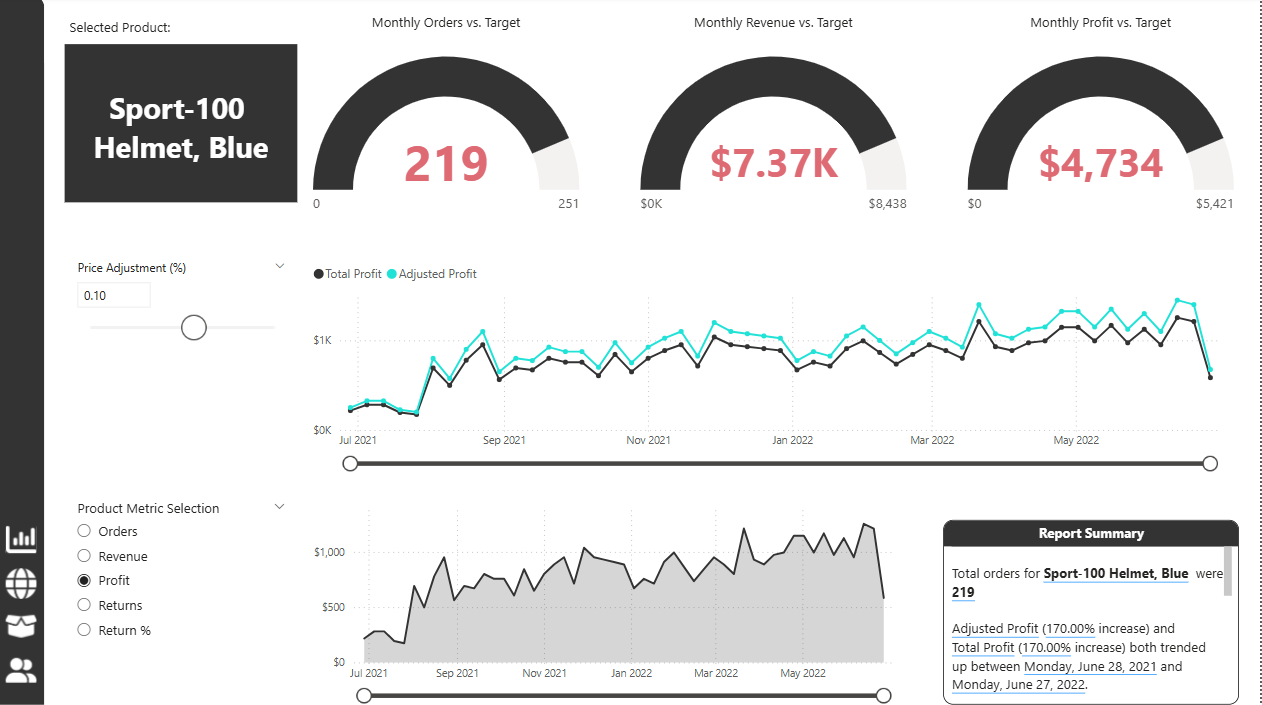

The dashboard page shown, as its layout file describes it:
{"tool":"powerbi","page":{"name":"Product Detail","canvas":[1280,720],"ordinal":2},"visuals":[{"type":"shape","box":[0,0,45,720],"z":0},{"type":"actionButton","box":[1.4,532.4,43.7,39.4],"z":0,"group":"g1"},{"type":"gauge","title":"Monthly Orders vs. Target","fields":{"Y":["Measure Table.Total Orders"],"MaxValue":["Measure Table.Order Target"]},"box":[312.8,16.8,280.7,234.6],"z":1000},{"type":"actionButton","box":[1.4,664.8,43.7,39.4],"z":1000,"group":"g1"},{"type":"gauge","title":"Monthly Revenue vs. Target","fields":{"Y":["Measure Table.Total Revenue"],"MaxValue":["Measure Table.Revenue Target"]},"box":[645.2,16.8,280.7,234.6],"z":2000},{"type":"actionButton","box":[1.4,620.7,43.7,39.4],"z":2000,"group":"g1"},{"type":"gauge","title":"Monthly Profit vs. Target","fields":{"Y":["Measure Table.Total Profit"],"MaxValue":["Measure Table.Profit Target"]},"box":[977.6,16.8,280.7,234.6],"z":3000},{"type":"actionButton","box":[1.4,576.5,43.7,39.4],"z":3000,"group":"g1"},{"type":"lineChart","title":"Profit Trending","fields":{"Category":["Calendar Lookup.Date Hierarchy.Start of Year","Calendar Lookup.Date Hierarchy.Start of Month","Calendar Lookup.Date Hierarchy.Start of Week","Calendar Lookup.Date Hierarchy.Date"],"Y":["Measure Table.Total Profit","Measure Table.Adjusted Profit"]},"box":[312.8,262.6,945.5,223.5],"z":4000},{"type":"areaChart","title":"Returns Trending","fields":{"Y":["Measure Table.Total Profit"],"Category":["Calendar Lookup.Date Hierarchy.Start of Year","Calendar Lookup.Date Hierarchy.Start of Month","Calendar Lookup.Date Hierarchy.Start of Week","Calendar Lookup.Date Hierarchy.Date"]},"box":[312.5,505,613.8,216.2],"z":5000},{"type":"card","fields":{"Values":["Min(Product Lookup.ProductName)"]},"box":[65.6,48.9,236,160.6],"z":6000},{"type":"textbox","box":[65.6,16.8,143.9,32.1],"z":7000},{"type":"group","id":"g1","title":"Navigation Buttons","box":[1.4,532.4,43.7,171.8],"z":8000},{"type":"slicer","fields":{"Values":["Price Adjustment (%).Price Adjustment (%)"]},"box":[65.6,262.6,236,111.7],"z":9000},{"type":"slicer","fields":{"Values":["Product Metric Selection.Product Metric Selection"]},"box":[65.3,505.6,236.1,198.6],"z":10000},{"type":"textbox","title":"Report Summary ","box":[957.5,532.5,300,187.5],"z":11000}]}

Visuals, with their boxes on the page's 1280x720 design canvas (x1, y1, x2, y2). These are canvas units, not pixel positions in the 1262x705 screenshot, which may show the page scaled, cropped or inside an application window:
shape: detection(0, 0, 45, 720)
actionButton: detection(1, 532, 45, 572)
"Monthly Orders vs. Target" gauge: detection(313, 17, 594, 251)
actionButton: detection(1, 665, 45, 704)
"Monthly Revenue vs. Target" gauge: detection(645, 17, 926, 251)
actionButton: detection(1, 621, 45, 660)
"Monthly Profit vs. Target" gauge: detection(978, 17, 1258, 251)
actionButton: detection(1, 576, 45, 616)
"Profit Trending" lineChart: detection(313, 263, 1258, 486)
"Returns Trending" areaChart: detection(312, 505, 926, 721)
card - Min(Product Lookup.ProductName): detection(66, 49, 302, 210)
textbox: detection(66, 17, 210, 49)
"Navigation Buttons" group: detection(1, 532, 45, 704)
slicer - Price Adjustment (%).Price Adjustment (%): detection(66, 263, 302, 374)
slicer - Product Metric Selection.Product Metric Selection: detection(65, 506, 301, 704)
"Report Summary " textbox: detection(958, 532, 1258, 720)
